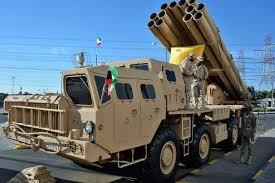MIL_SAM_TEL: (1, 0, 257, 179)
